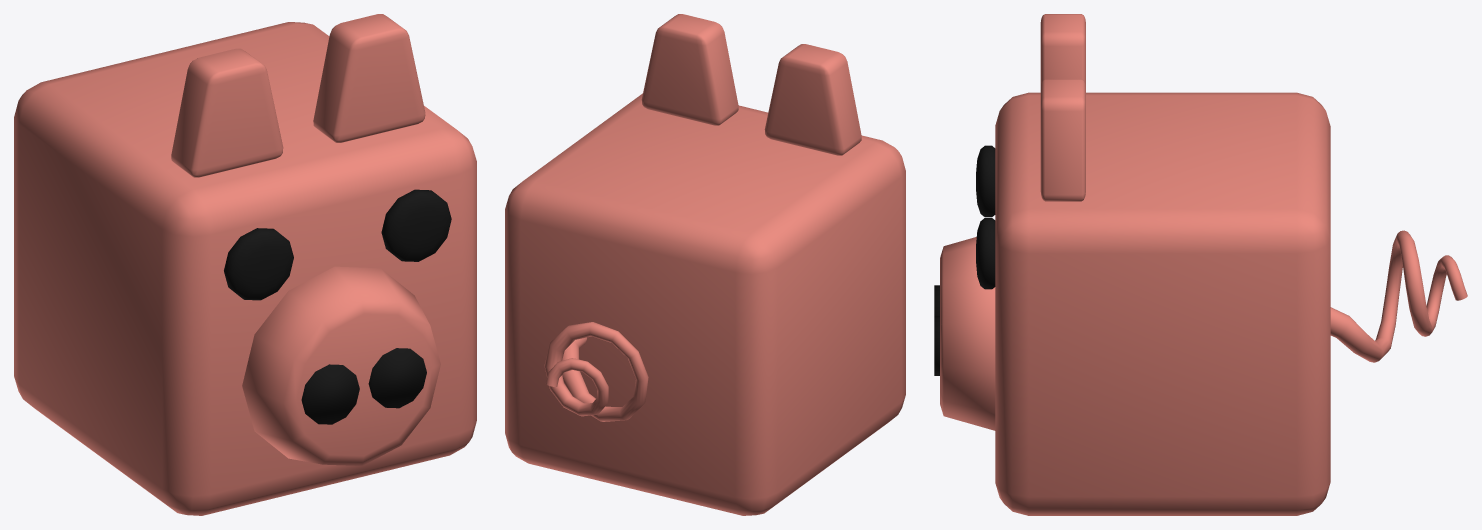
Rendered from Pig.fbx.
The picture shows the model from 3 angles, left to right: view 1: azimuth 30°, elevation 25°; view 2: azimuth 150°, elevation 25°; view 3: azimuth 270°, elevation 25°; orthographic projection. The views are drawn at different scales.
Parts seen in each view (by area): view 1: Cylinder.002; view 2: Cylinder.002; view 3: Cylinder.002.
Part boxes in pixels (x1=…): Cylinder.002: x1=14, y1=14, x2=476, y2=515; Cylinder.002: x1=505, y1=14, x2=905, y2=515; Cylinder.002: x1=934, y1=14, x2=1467, y2=515.
Size of the model in its own units: 100 by 132 by 159.
